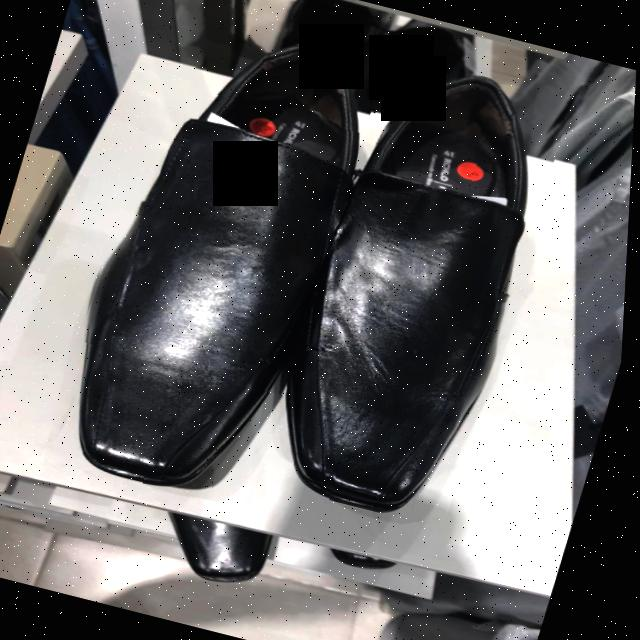shoe: (82, 48, 355, 489), (293, 78, 529, 513)
